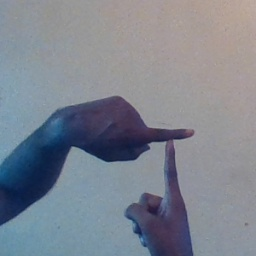T: (116, 98, 208, 212)
